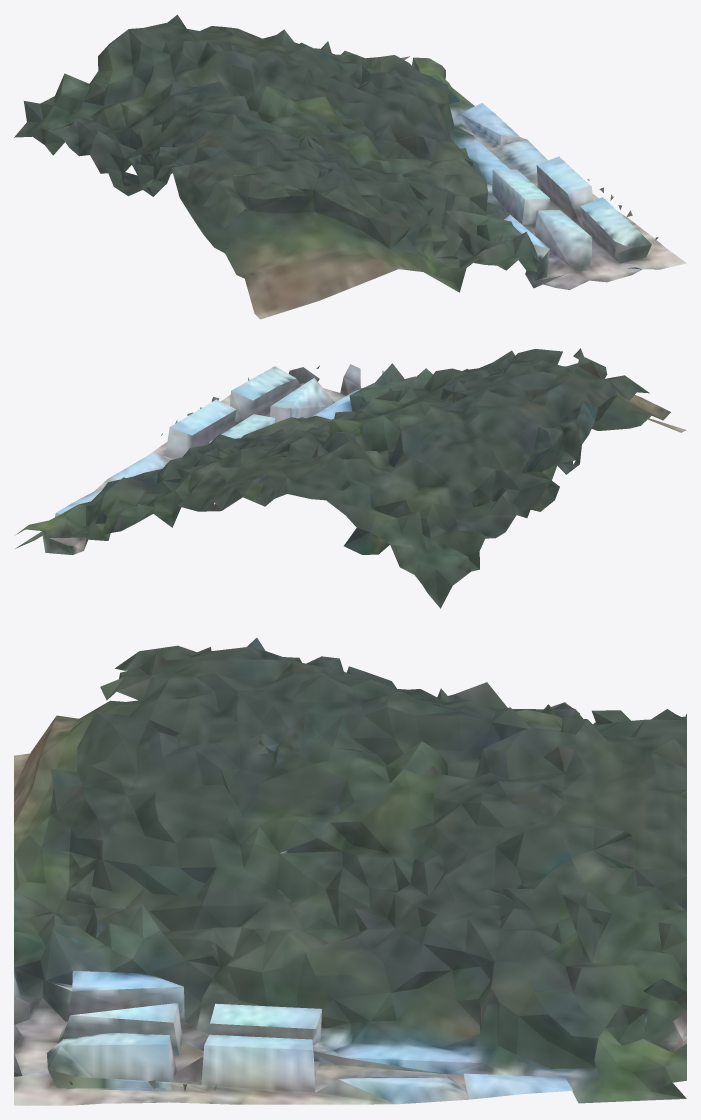
Rendered from Tile__004__004_L16_00.glb.
3 renders of one model, top to bottom at view 1: azimuth 30°, elevation 25°; view 2: azimuth 150°, elevation 25°; view 3: azimuth 270°, elevation 25°, orthographic. The views are drawn at different scales.
Visible parts, largest first — view 1: root; view 2: root; view 3: root.
Boxes of the visible parts, <box> form: root: <box>14,14,686,319</box>; root: <box>15,348,686,608</box>; root: <box>14,638,686,1105</box>.
Bounding box in the file's own units: 101 × 33.9 × 101.
1 material, 1 textured.
